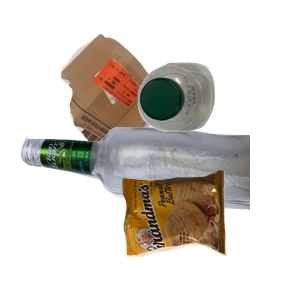cardboard: (58, 31, 222, 188)
glass: (18, 124, 258, 300)
plastic: (135, 60, 300, 184)
trash: (120, 168, 300, 300)
